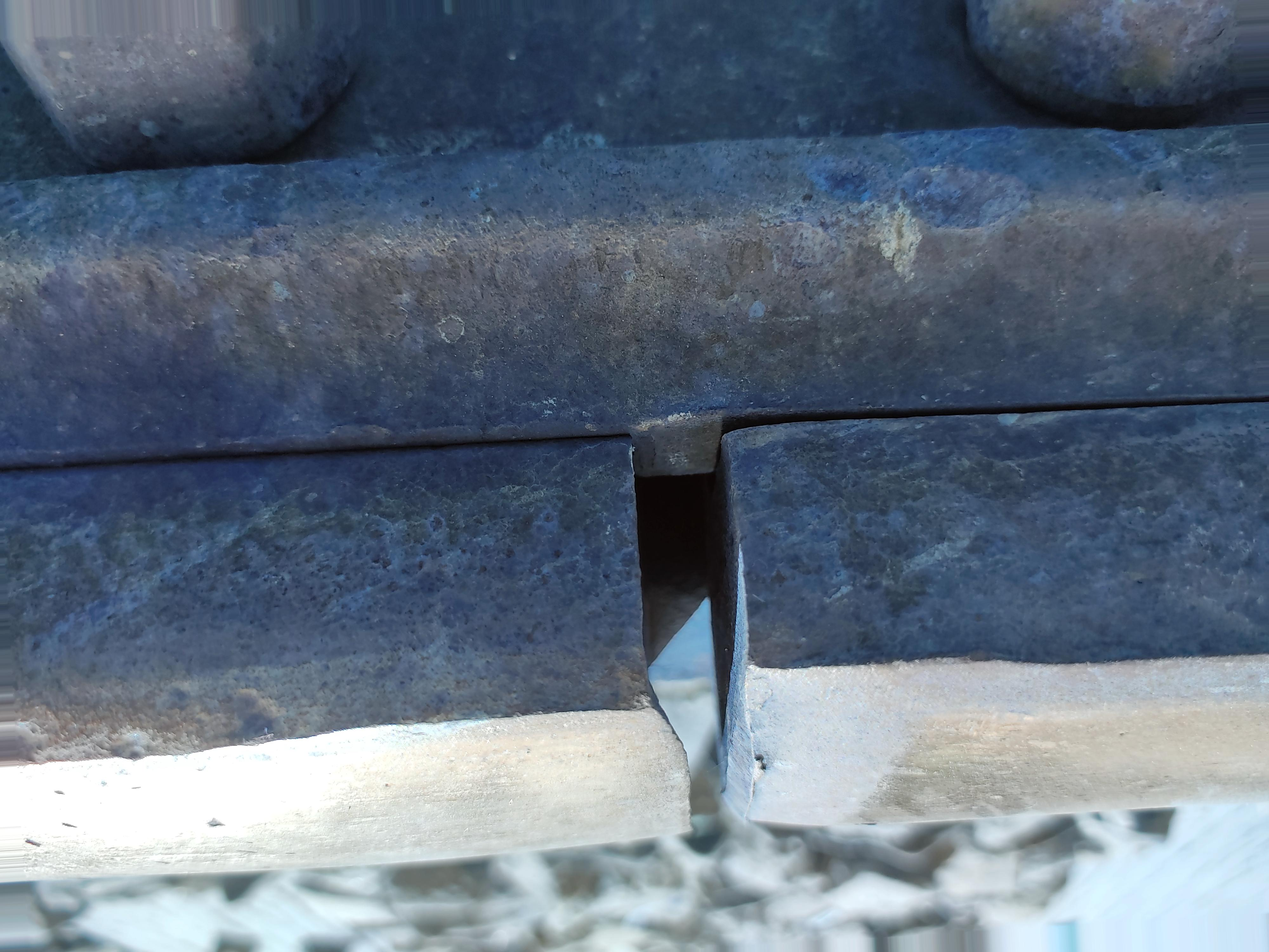tracks_fault: (592, 432, 835, 952)
